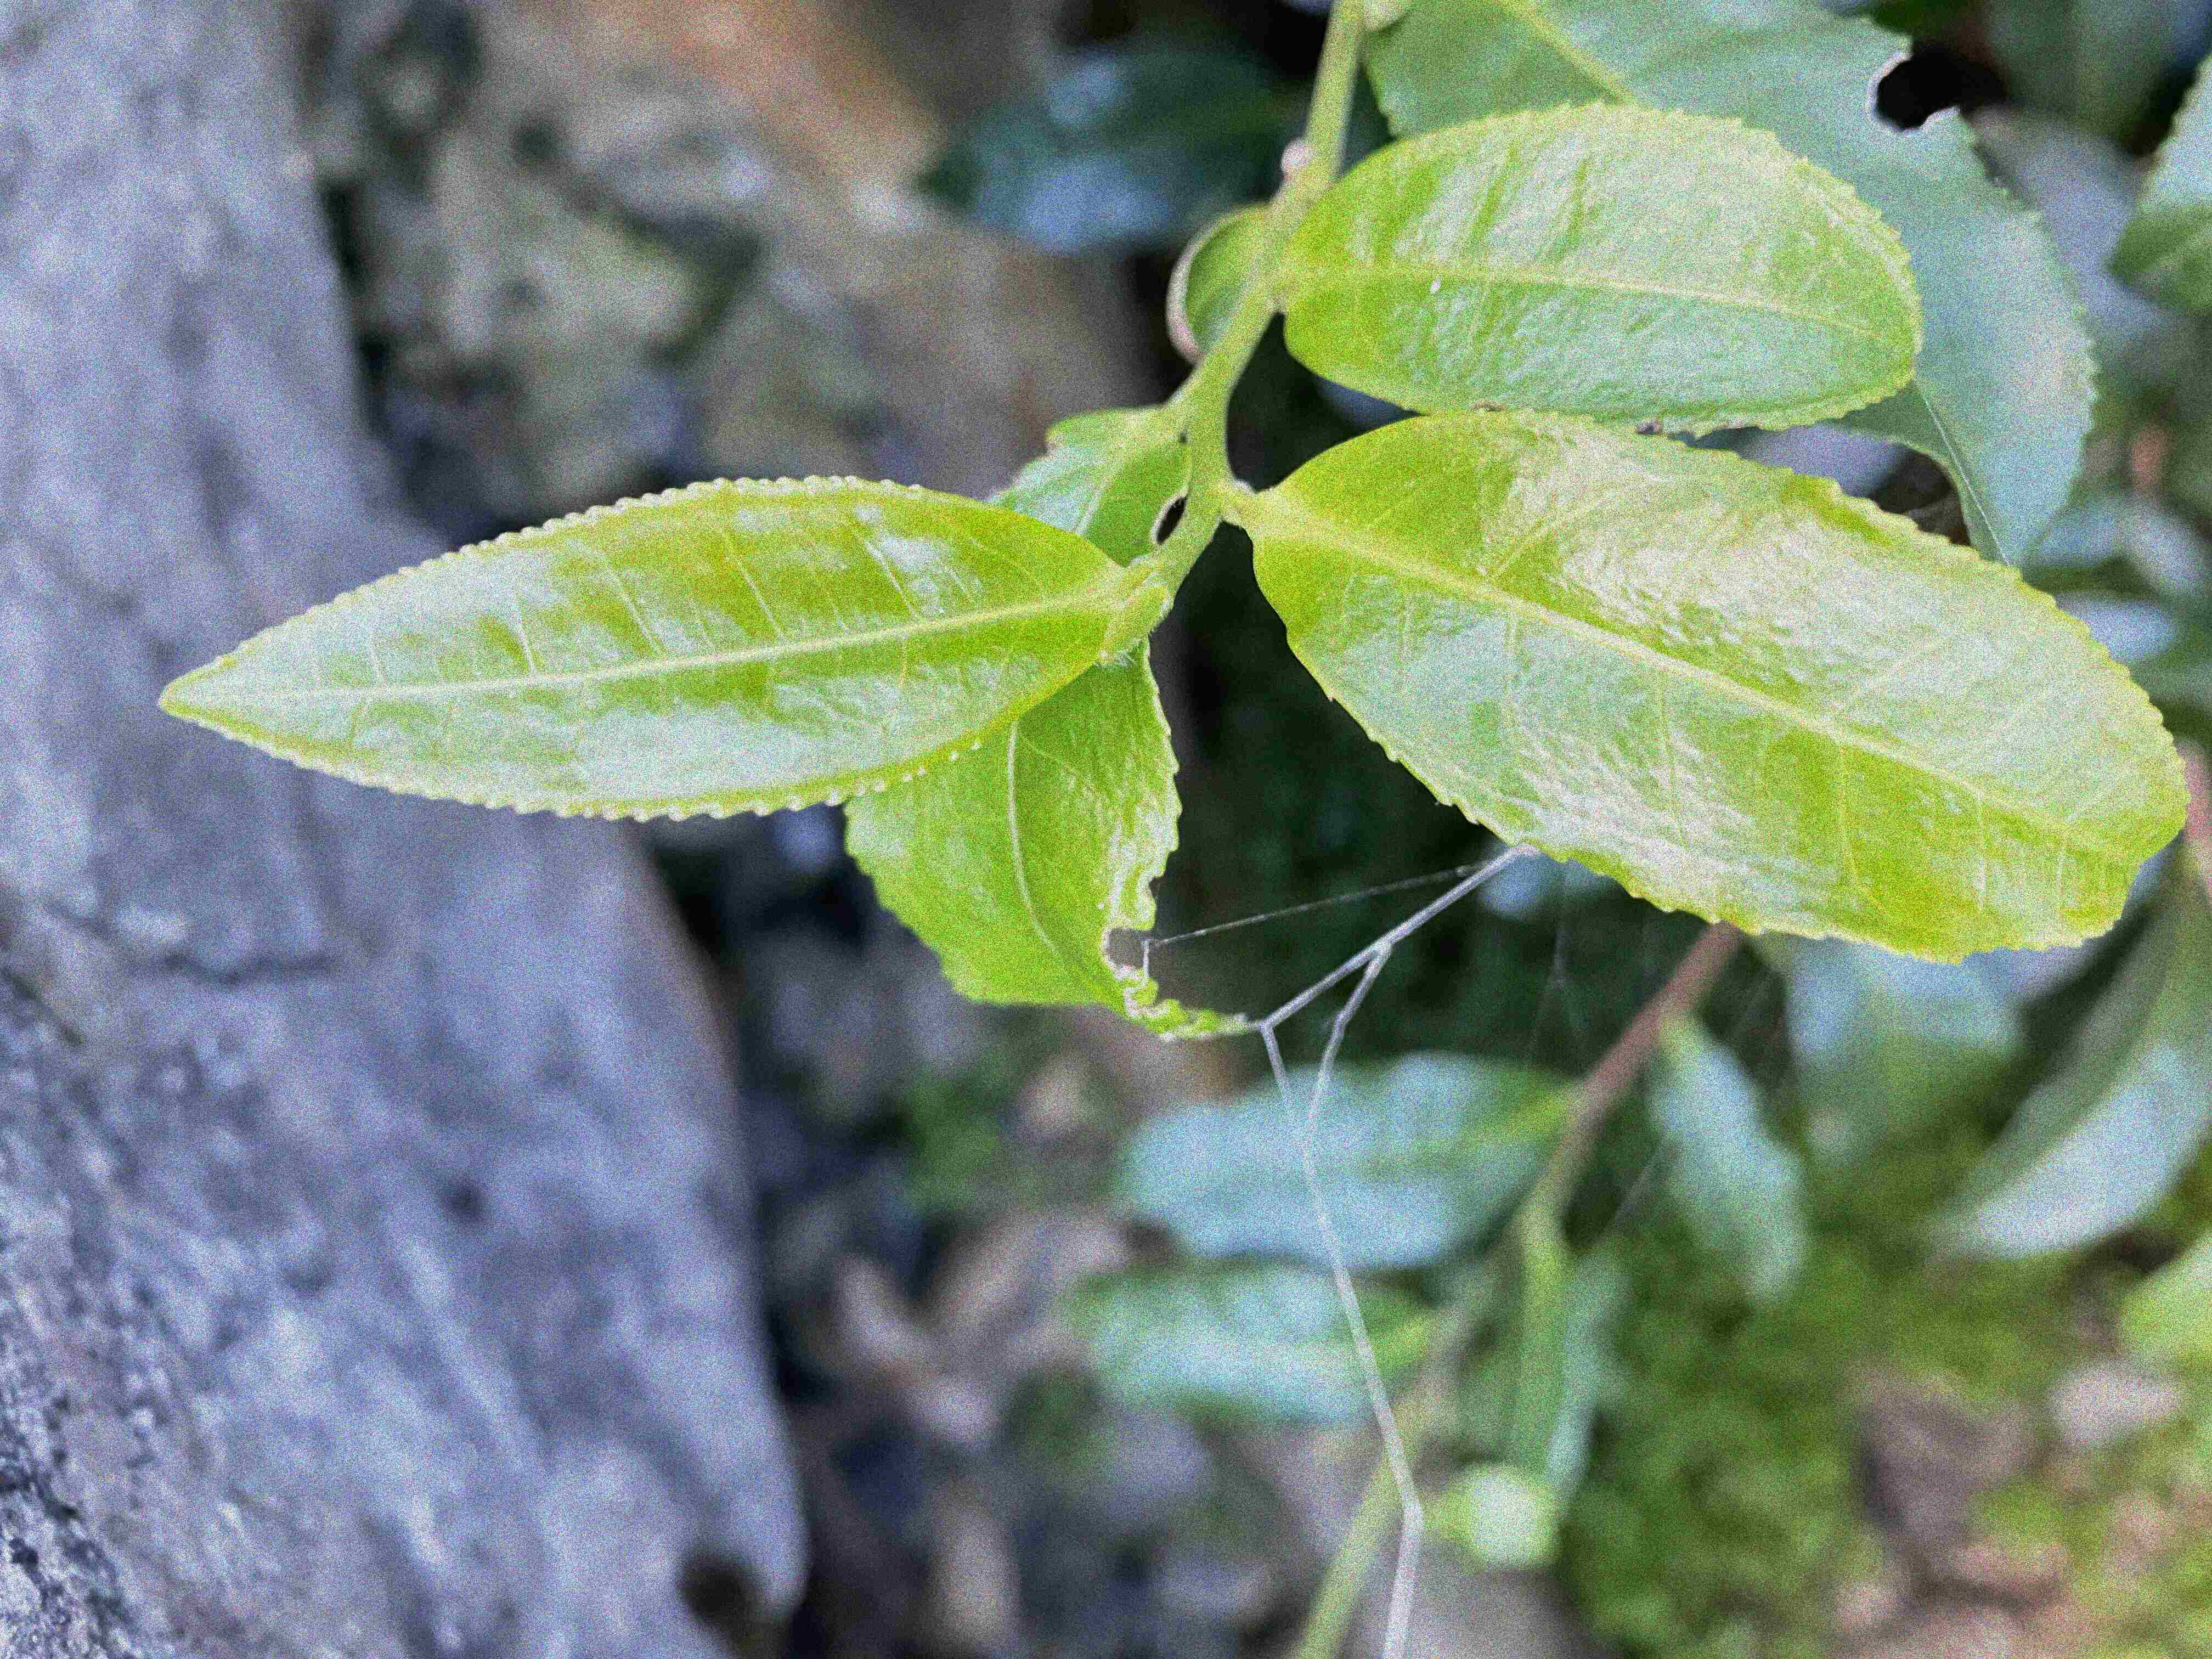chihuo_high: (843, 401, 1245, 1042)
chihuo_low: (1360, 5, 2107, 558)
healthy: (1254, 406, 2196, 967), (155, 469, 1120, 824), (1280, 96, 1921, 427)
